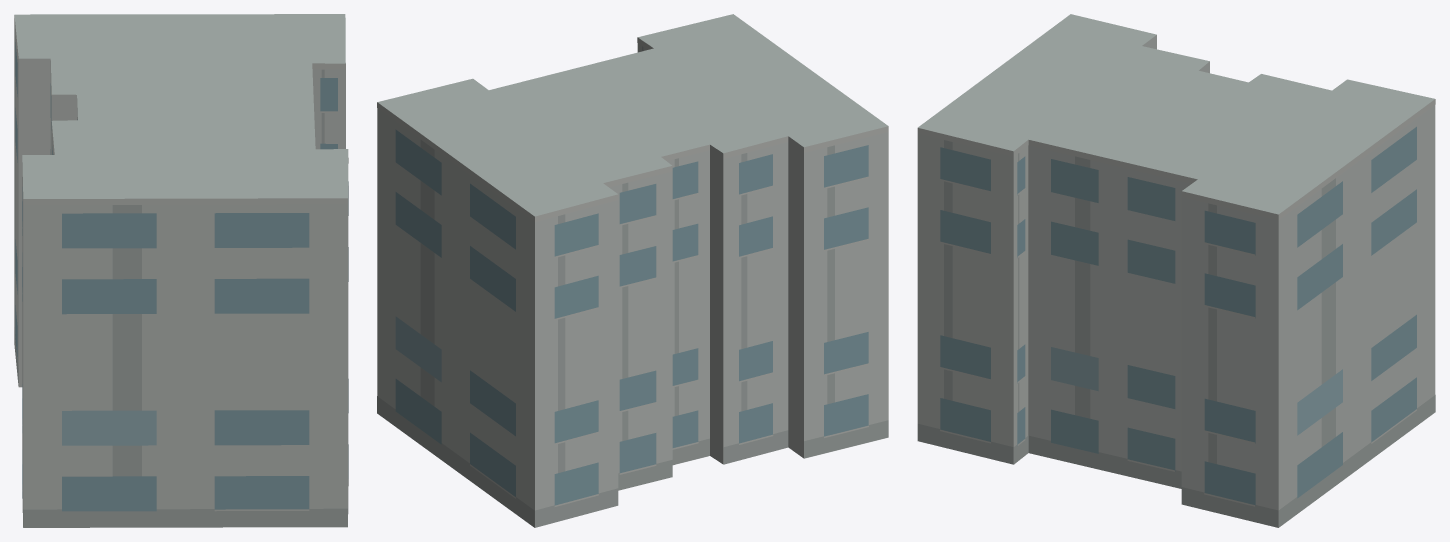
Rendered from survey-upis-32846094.glb.
3 renders of one model, left to right at view 1: azimuth 30°, elevation 25°; view 2: azimuth 150°, elevation 25°; view 3: azimuth 270°, elevation 25°, orthographic. The views are drawn at different scales.
Parts seen in each view (by area): view 1: survey-upis-32846094.tmp; view 2: survey-upis-32846094.tmp; view 3: survey-upis-32846094.tmp.
Part boxes in pixels (x1,y1,x2,y2): survey-upis-32846094.tmp: (14,14,348,527); survey-upis-32846094.tmp: (377,14,888,527); survey-upis-32846094.tmp: (917,14,1435,527).
Size of the model in its own units: 18.12 by 13.2 by 19.78.
